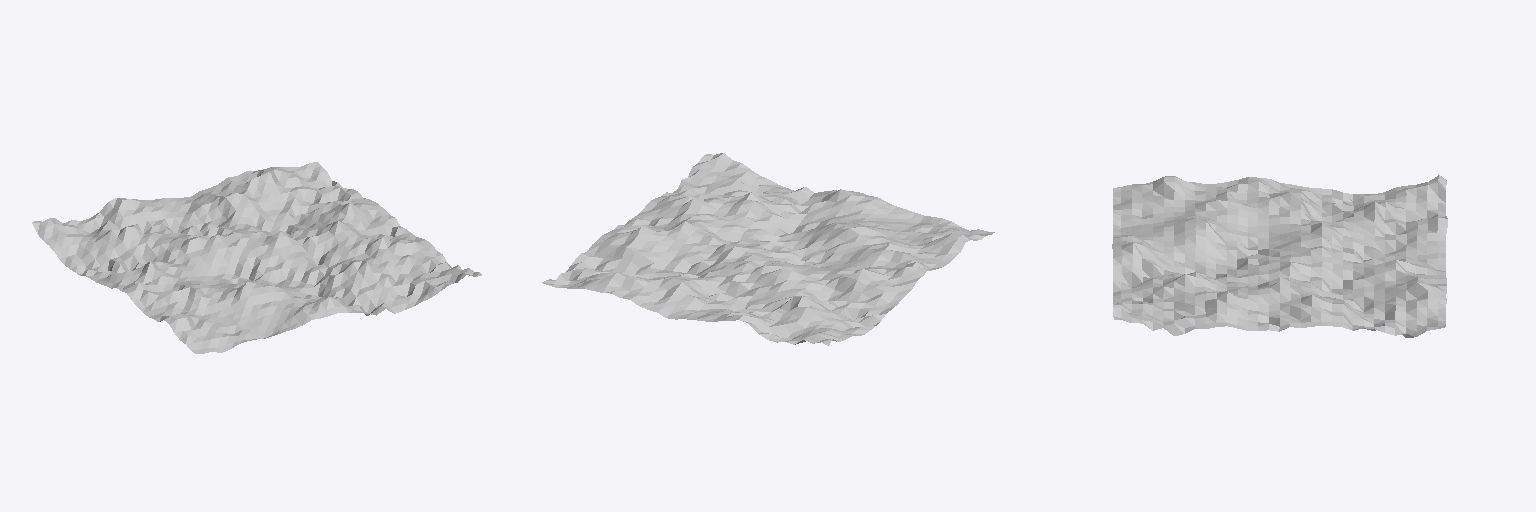
The model's file is montagne.obj.
The picture shows the model from 3 angles: view 1: azimuth 30°, elevation 25°; view 2: azimuth 150°, elevation 25°; view 3: azimuth 270°, elevation 25°; orthographic projection.
Parts seen in each view (by area): view 1: Plane_Plane.002; view 2: Plane_Plane.002; view 3: Plane_Plane.002.
Boxes of the visible parts, box(x1,y1,x2,y2) form: Plane_Plane.002: box(32, 162, 481, 353); Plane_Plane.002: box(542, 153, 994, 345); Plane_Plane.002: box(1112, 175, 1447, 337).
Bounding box in the file's own units: 303 × 30.93 × 304.